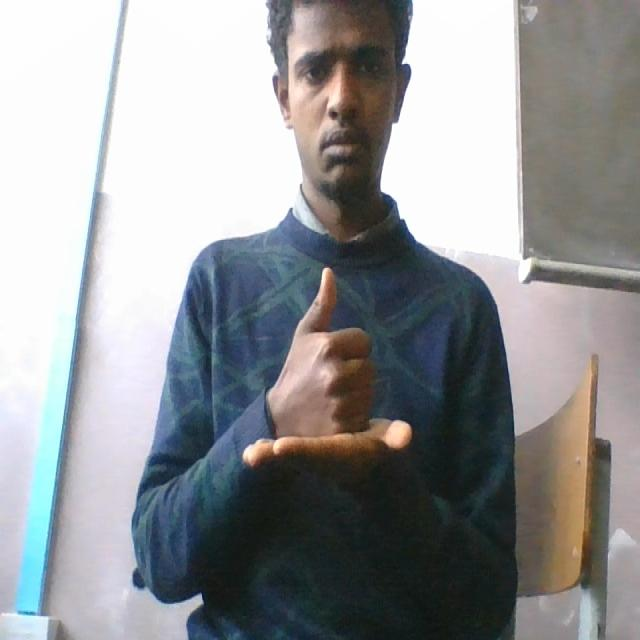amen: (240, 259, 423, 497)
